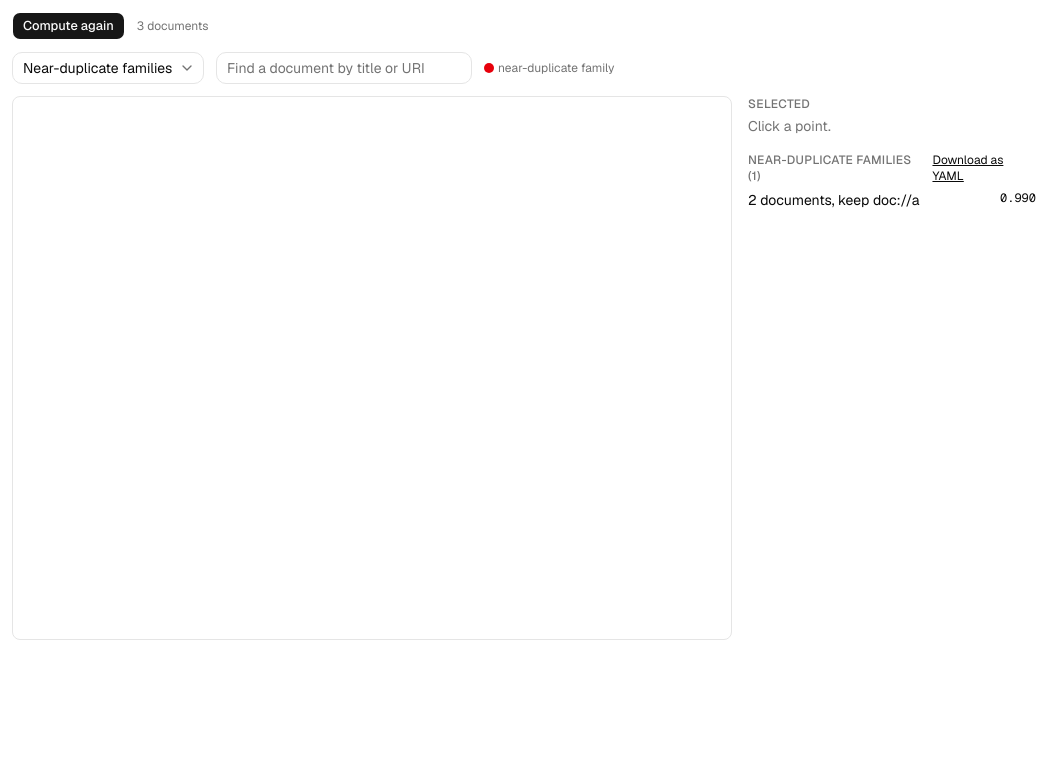
Scenario: CorpusMap › drops a selection the new map no longer holds
Click the text "2 documents, keep doc://a".
click(834, 200)  # box 748,190 -> 920,210
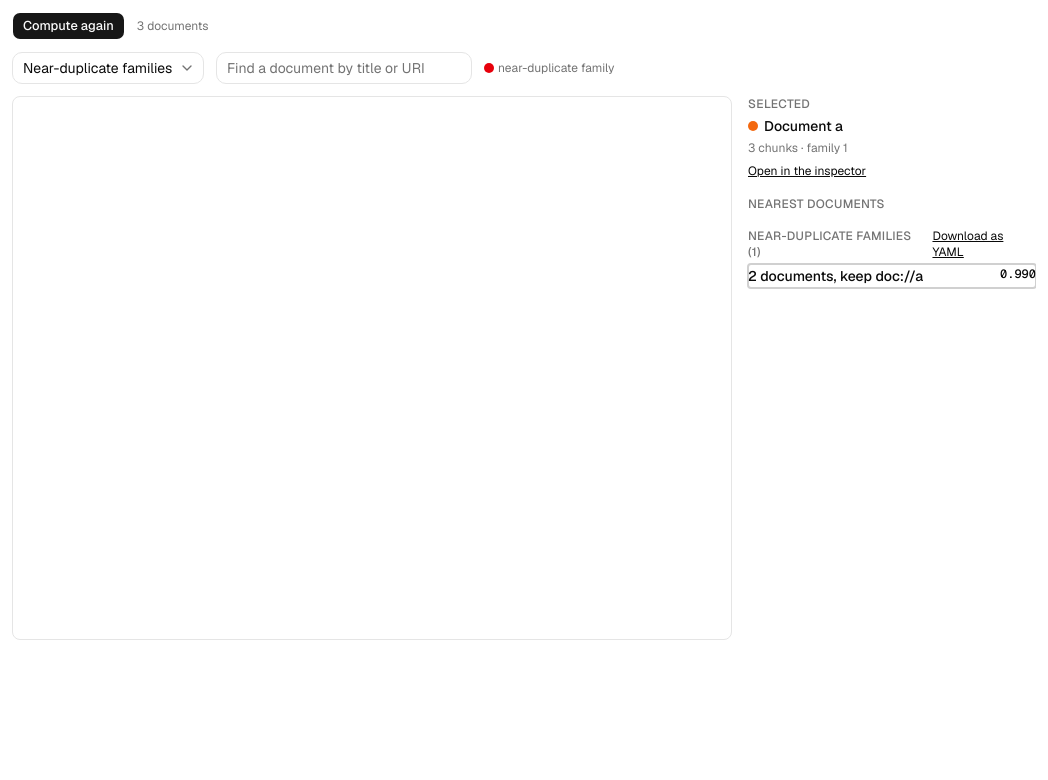
Expected: the text "Document a" is shown, 748,117 -> 843,135
Click the button "Compute again".
click(68, 26)  # box 12,12 -> 125,40
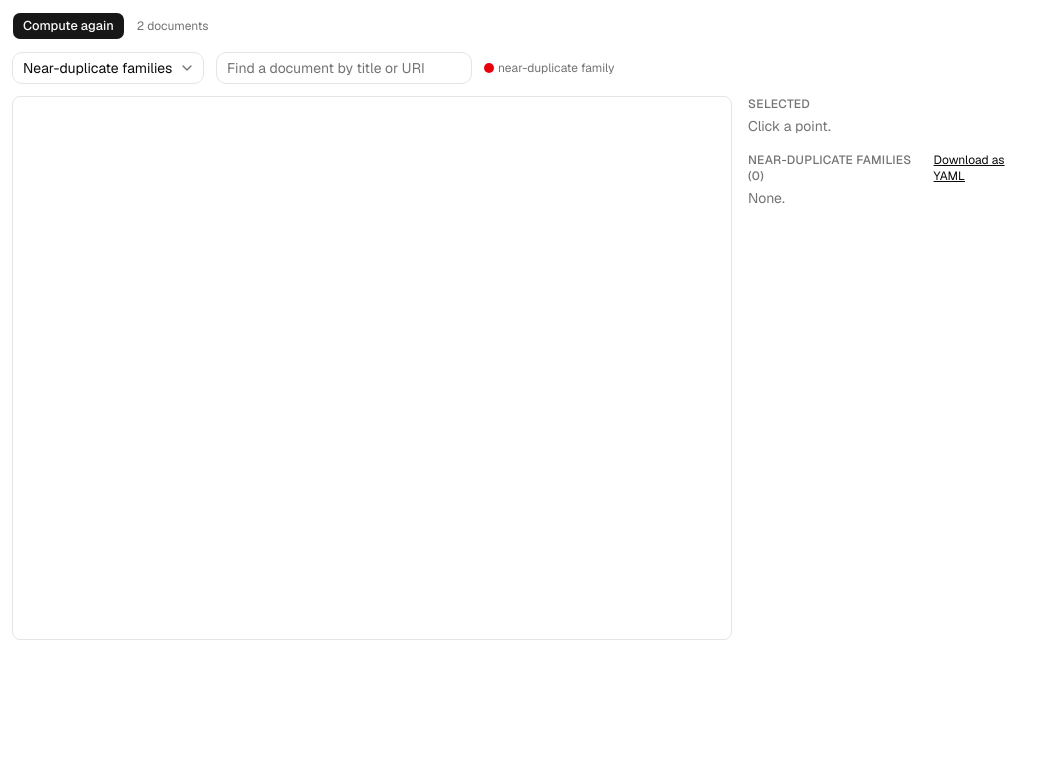
Expected: the text "Click a point." is shown, 748,117 -> 831,135
Click the button "Compute again".
click(68, 26)  # box 12,12 -> 125,40
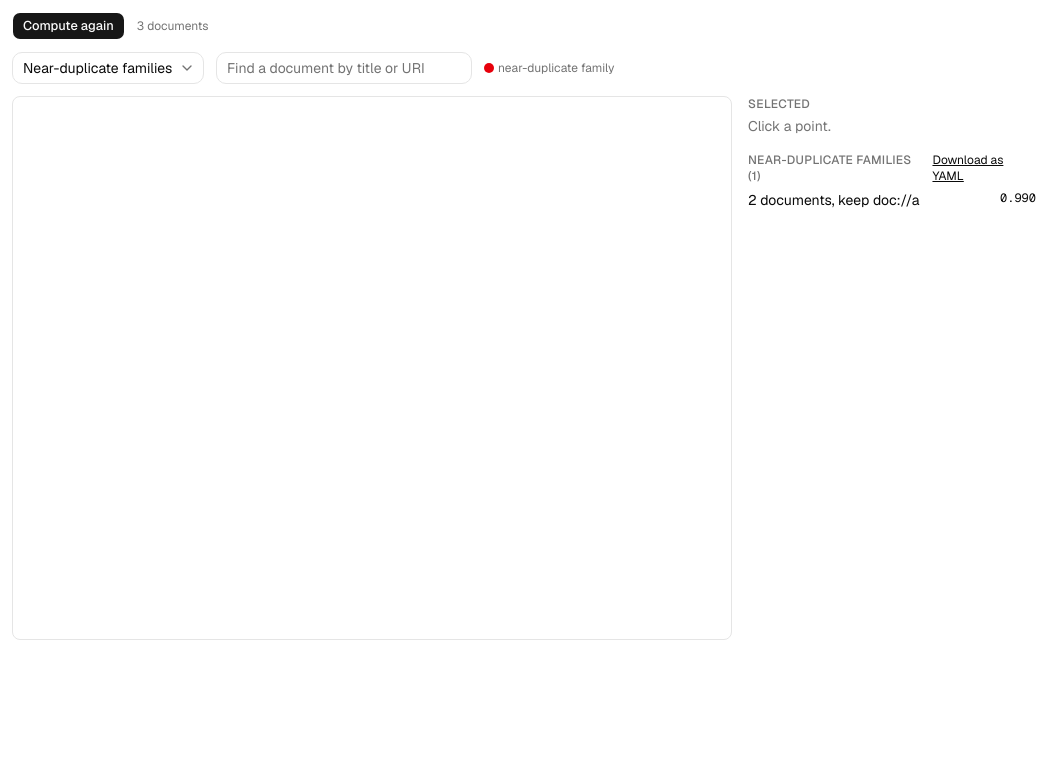
Expected: the text "Click a point." is shown, 748,117 -> 831,135
Expected: the text "2 documents, keep doc://a" is shown, 748,190 -> 920,210
